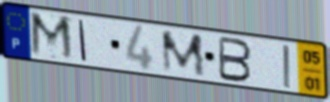4: (124, 23, 159, 73)
B: (217, 35, 254, 85)
I: (281, 43, 294, 91), (77, 18, 89, 64)
M: (28, 10, 77, 64), (159, 29, 208, 78)
